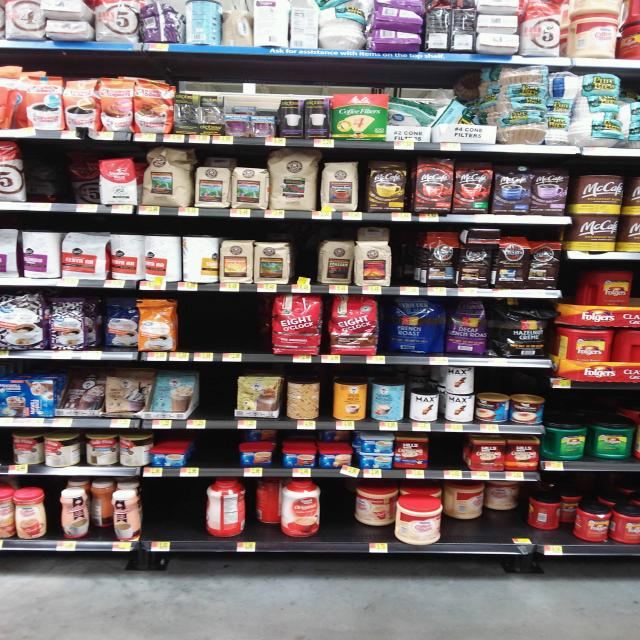empty: (133, 475, 208, 549), (177, 297, 275, 351), (318, 481, 362, 545), (188, 428, 239, 473), (190, 373, 236, 422), (390, 230, 424, 288), (287, 231, 318, 292), (426, 434, 468, 473)
